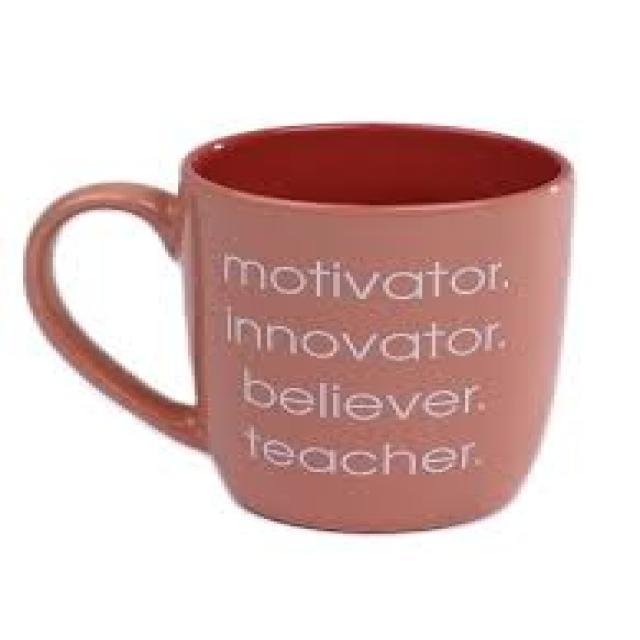taza: (24, 119, 578, 536)
